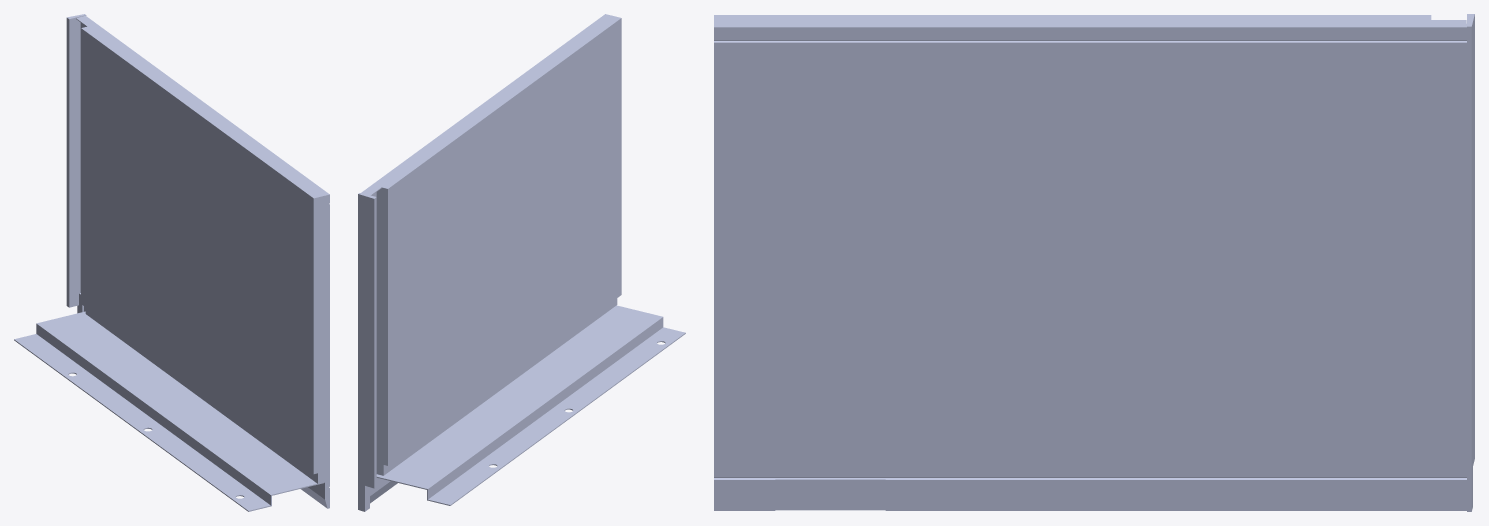
Rendered from lg-kava-F350-m.glb.
The picture shows the model from 3 angles, left to right: view 1: azimuth 30°, elevation 25°; view 2: azimuth 150°, elevation 25°; view 3: azimuth 270°, elevation 25°; orthographic projection. The views are drawn at different scales.
Parts seen in each view (by area): view 1: 49329478; view 2: 49329478; view 3: 49329478.
Boxes of the visible parts, bbox=[...] form: 49329478: bbox=[14, 14, 329, 511]; 49329478: bbox=[358, 14, 685, 511]; 49329478: bbox=[714, 14, 1474, 511].
Size of the model in its own units: 0.0653 by 0.2417 by 0.3435.
